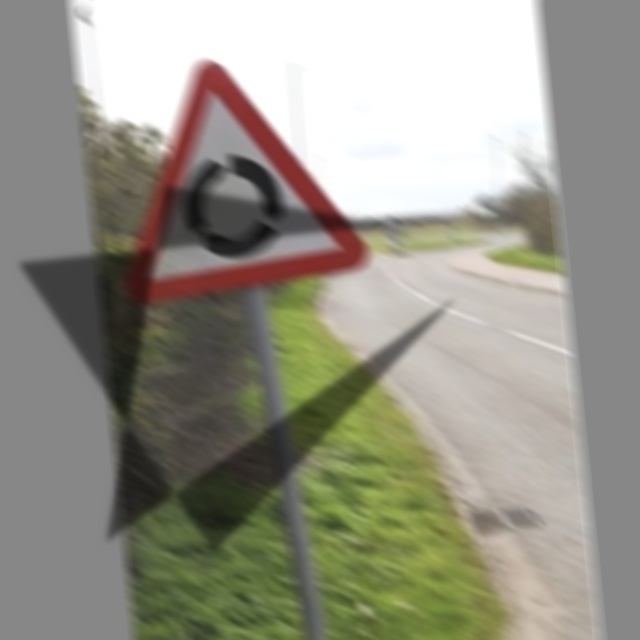Round_About: (117, 45, 364, 292)
